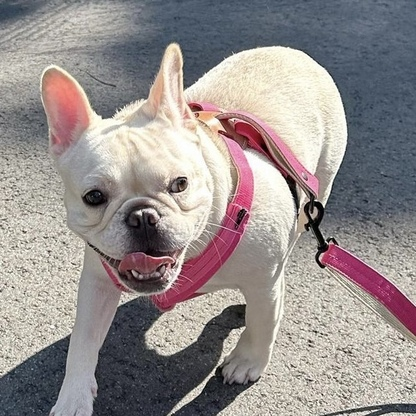bulldog: (32, 33, 358, 416)
